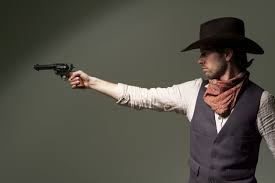gun: (31, 61, 89, 88)
